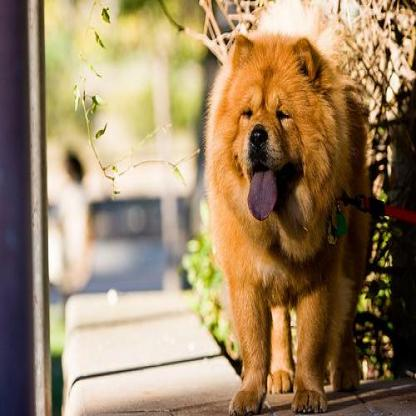chow: (202, 27, 373, 414)
